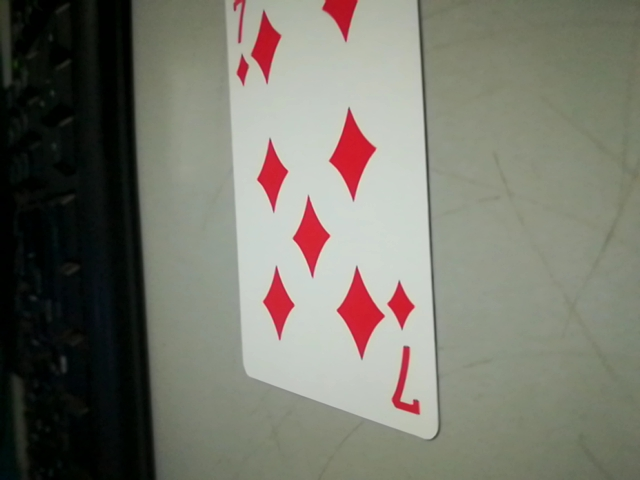fk 7: (380, 273, 432, 430)
